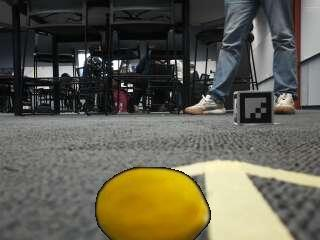lemon: (98, 169, 210, 240)
